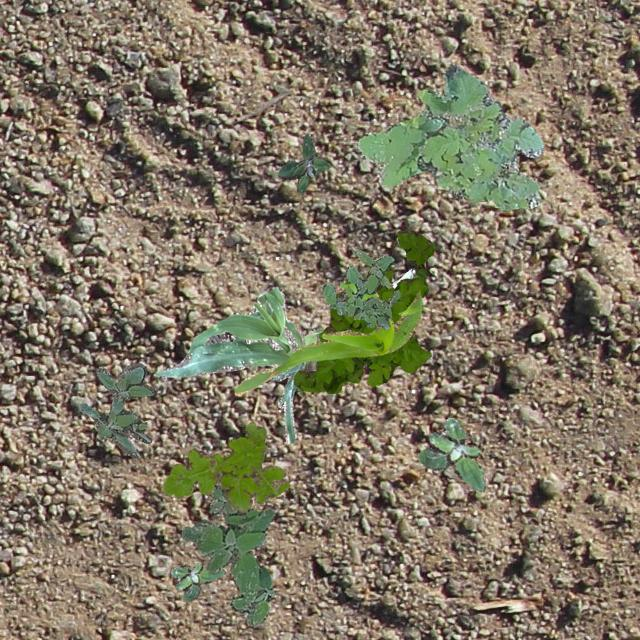crop: (152, 286, 322, 442), (234, 282, 421, 396), (391, 268, 414, 288)
weed: (356, 64, 542, 210), (292, 228, 436, 392), (180, 484, 274, 626), (160, 422, 288, 512), (78, 362, 156, 458), (322, 248, 399, 328), (418, 416, 486, 489), (276, 132, 328, 192), (170, 562, 223, 600)
